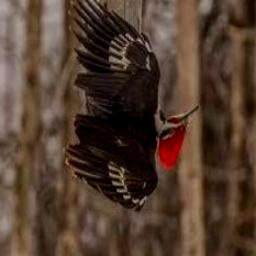Woodpecker: (64, 0, 199, 213)
